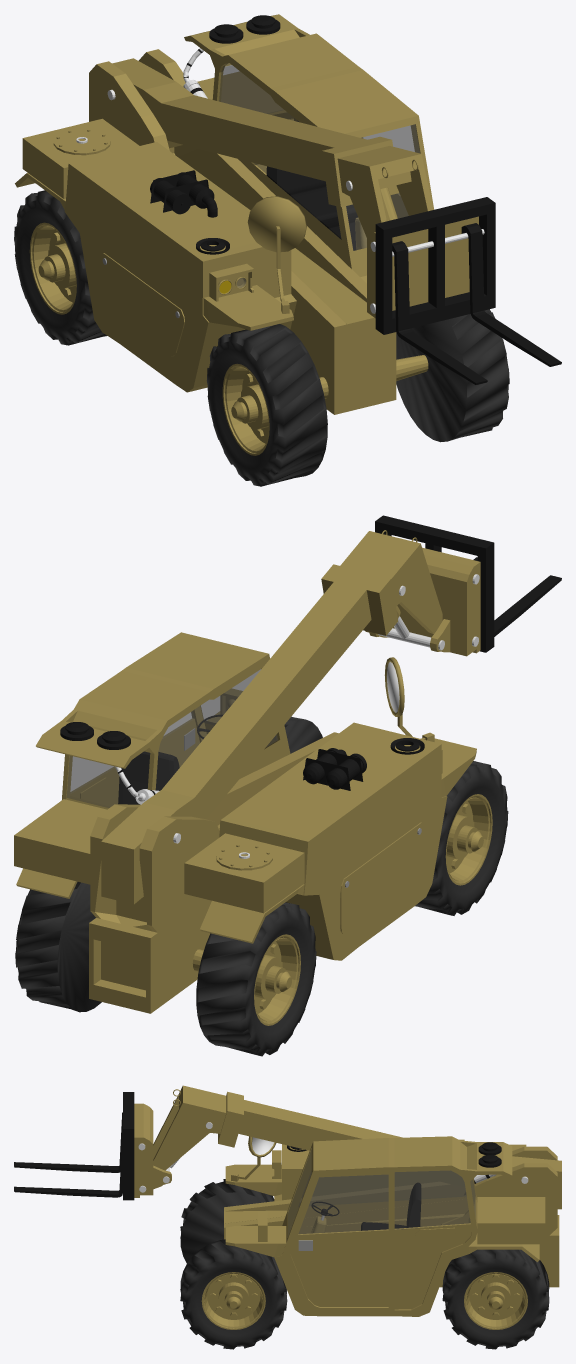
The model's file is KalmarForklift.fbx.
3 views of the same model, one above another, from view 1: azimuth 30°, elevation 25°; view 2: azimuth 150°, elevation 25°; view 3: azimuth 270°, elevation 25° (orthographic). The views are drawn at different scales.
Visible parts, largest first — view 1: Tires, Engine, Body, Cabin, Forklift, Lift Arm, Windows, Lift head, Gas Tank, Lift plate, Fenders, Mirror (+6 smaller); view 2: Tires, Engine, Lift Arm, Body, Cabin, Gas Tank, Windows, Box, Lift plate, Lift head, Forklift, Fenders (+4 smaller); view 3: Cabin, Tires, Body, Windows, Lift Arm, Lift head, Fenders, Box, Forklift, Engine, Lift plate, Chair (+4 smaller).
Part boxes in pixels (<box>): Tires: <box>14,190,509,486</box>; Engine: <box>64,142,296,392</box>; Body: <box>89,49,396,414</box>; Cabin: <box>184,14,433,283</box>; Forklift: <box>375,197,561,384</box>; Lift Arm: <box>112,58,411,207</box>; Windows: <box>219,63,419,250</box>; Lift head: <box>337,146,433,237</box>; Gas Tank: <box>22,118,139,198</box>; Lift plate: <box>367,216,478,318</box>; Fenders: <box>15,173,293,330</box>; Mirror: <box>247,196,306,313</box>; Tires: <box>15,716,508,1056</box>; Engine: <box>219,722,447,960</box>; Lift Arm: <box>101,564,397,904</box>; Body: <box>89,732,338,1013</box>; Cabin: <box>36,632,290,809</box>; Gas Tank: <box>184,833,304,913</box>; Windows: <box>67,669,277,807</box>; Box: <box>14,799,106,884</box>; Lift plate: <box>365,547,480,656</box>; Lift head: <box>340,531,442,633</box>; Forklift: <box>375,515,561,652</box>; Fenders: <box>16,711,476,943</box>; Cabin: <box>274,1136,512,1316</box>; Tires: <box>180,1179,549,1349</box>; Body: <box>224,1146,559,1287</box>; Windows: <box>288,1150,475,1236</box>; Lift Arm: <box>218,1091,561,1209</box>; Lift head: <box>153,1085,226,1170</box>; Fenders: <box>225,1164,539,1262</box>; Box: <box>477,1197,545,1244</box>; Forklift: <box>14,1092,134,1200</box>; Engine: <box>274,1139,464,1201</box>; Lift plate: <box>134,1103,171,1197</box>; Chair: <box>361,1182,421,1230</box>.
Bounding box in the file's own units: 205 × 253 × 577.
